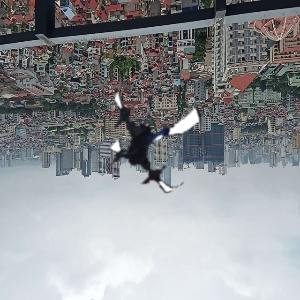drone: (93, 73, 216, 196)
